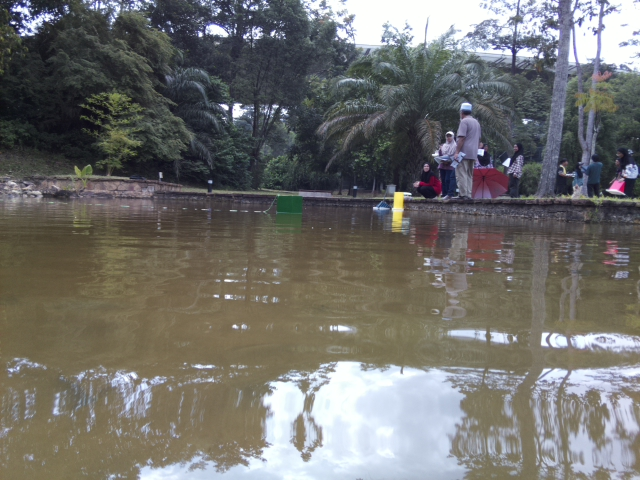obstacle: (275, 194, 303, 215)
